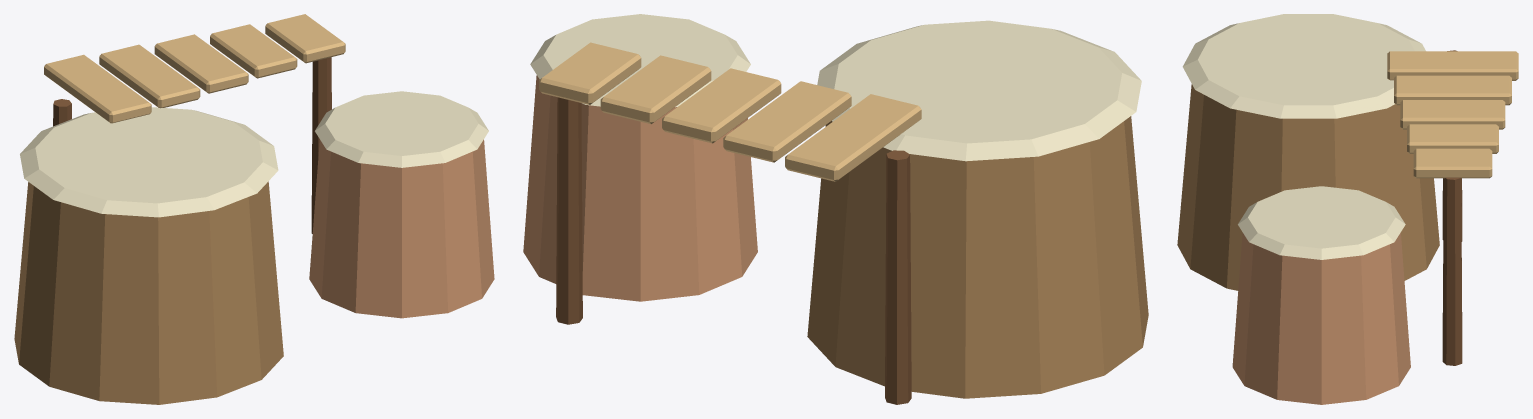
File: CC_Instrument.fbx
3 views of the same model, side by side, from view 1: azimuth 30°, elevation 25°; view 2: azimuth 150°, elevation 25°; view 3: azimuth 270°, elevation 25° (orthographic). The views are drawn at different scales.
Visible parts, largest first — view 1: Big drum, Small drum, Drum skin, Drum skin.001, Xylophone bar, Xylophone bar.001, Xylophone bar.002, Xylophone bar.003, Xylophone bar.004, Xylo stand.001, Xylo stand; view 2: Big drum, Small drum, Drum skin, Drum skin.001, Xylo stand, Xylophone bar, Xylo stand.001, Xylophone bar.001, Xylophone bar.002, Xylophone bar.003, Xylophone bar.004; view 3: Big drum, Small drum, Drum skin, Drum skin.001, Xylo stand.001, Xylophone bar, Xylophone bar.001, Xylophone bar.002, Xylophone bar.004, Xylophone bar.003.
Part boxes in pixels (bbox=[...]): Big drum: bbox=[14, 181, 283, 404]; Small drum: bbox=[309, 139, 494, 318]; Drum skin: bbox=[20, 107, 278, 217]; Drum skin.001: bbox=[315, 91, 488, 167]; Xylophone bar: bbox=[44, 54, 151, 123]; Xylophone bar.001: bbox=[99, 44, 200, 108]; Xylophone bar.002: bbox=[154, 34, 248, 93]; Xylophone bar.003: bbox=[210, 24, 297, 78]; Xylophone bar.004: bbox=[265, 14, 345, 63]; Xylo stand.001: bbox=[311, 57, 331, 233]; Xylo stand: bbox=[53, 99, 71, 126]; Big drum: bbox=[807, 116, 1148, 398]; Small drum: bbox=[523, 75, 757, 301]; Drum skin: bbox=[817, 20, 1141, 161]; Drum skin.001: bbox=[530, 14, 750, 107]; Xylo stand: bbox=[885, 150, 911, 404]; Xylophone bar: bbox=[785, 94, 921, 181]; Xylo stand.001: bbox=[556, 97, 582, 324]; Xylophone bar.001: bbox=[723, 81, 851, 162]; Xylophone bar.002: bbox=[662, 68, 781, 143]; Xylophone bar.003: bbox=[600, 55, 711, 124]; Xylophone bar.004: bbox=[539, 42, 641, 104]; Big drum: bbox=[1177, 84, 1439, 290]; Small drum: bbox=[1232, 232, 1410, 404]; Drum skin: bbox=[1182, 14, 1425, 118]; Drum skin.001: bbox=[1238, 186, 1405, 259]; Xylo stand.001: bbox=[1442, 177, 1462, 365]; Xylophone bar: bbox=[1387, 51, 1518, 80]; Xylophone bar.001: bbox=[1394, 75, 1511, 105]; Xylophone bar.002: bbox=[1400, 100, 1505, 129]; Xylophone bar.004: bbox=[1413, 148, 1492, 178]; Xylophone bar.003: bbox=[1407, 124, 1498, 153].
Size of the model in its own units: 1.93 by 0.825 by 1.3.
